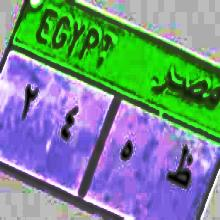2: (19, 76, 40, 130)
4: (61, 96, 78, 150)
Thaa: (166, 140, 193, 199)
haa: (116, 126, 135, 176)
